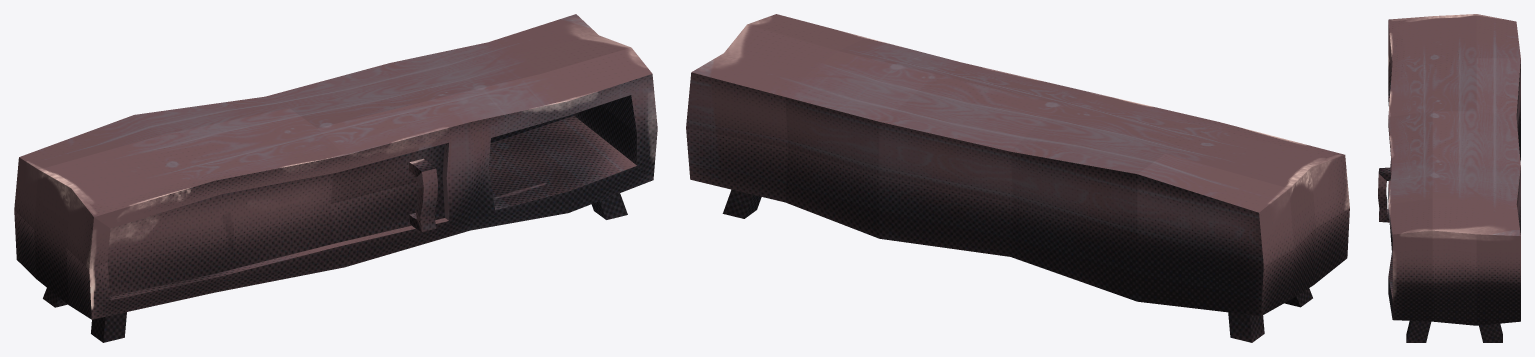
File: TV_table.obj
The picture shows the model from 3 angles, left to right: view 1: azimuth 30°, elevation 25°; view 2: azimuth 150°, elevation 25°; view 3: azimuth 270°, elevation 25°; orthographic projection. The views are drawn at different scales.
Visible parts, largest first — view 1: Cube.003; view 2: Cube.003; view 3: Cube.003.
Boxes of the visible parts, left/top/right/bottom form: Cube.003: left=14, top=14, right=657, bottom=342; Cube.003: left=686, top=14, right=1349, bottom=342; Cube.003: left=1378, top=14, right=1520, bottom=342.
Size of the model in its own units: 2 by 0.5 by 0.5388.
1 material, 1 textured.
